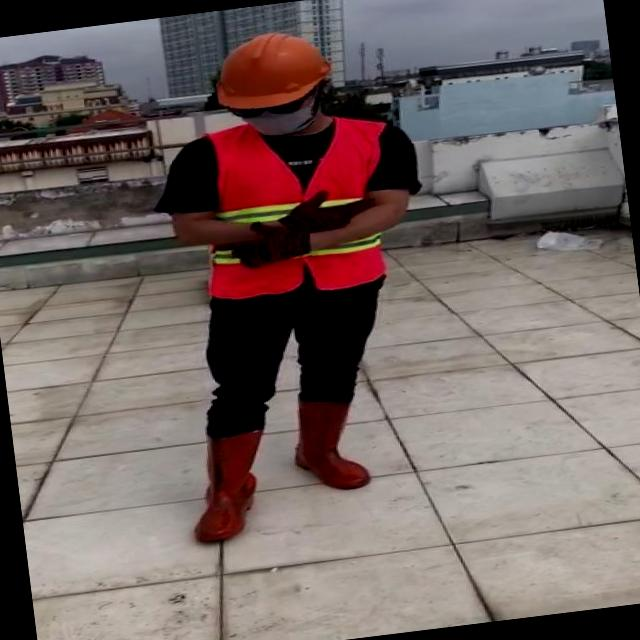gloves: (279, 190, 373, 233), (230, 222, 310, 268)
vest: (208, 118, 385, 224), (208, 233, 385, 299)
